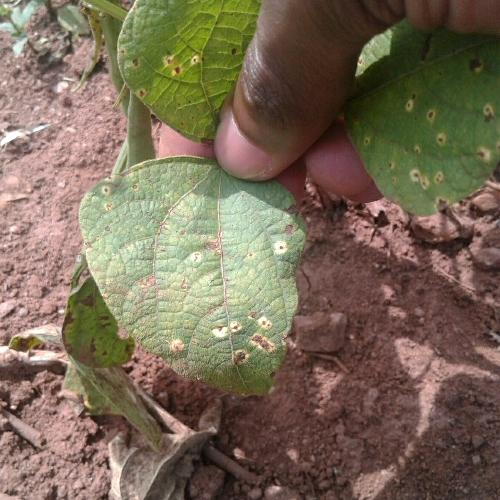hawar: (362, 47, 496, 211), (147, 229, 290, 374), (122, 20, 222, 106)
